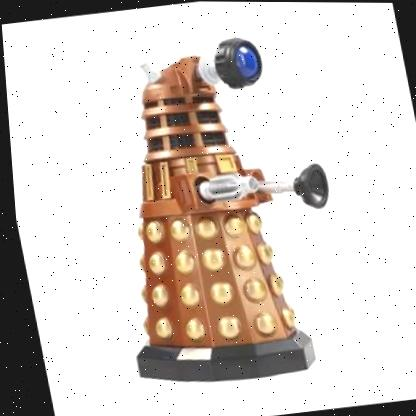dalek: (59, 21, 379, 404)
